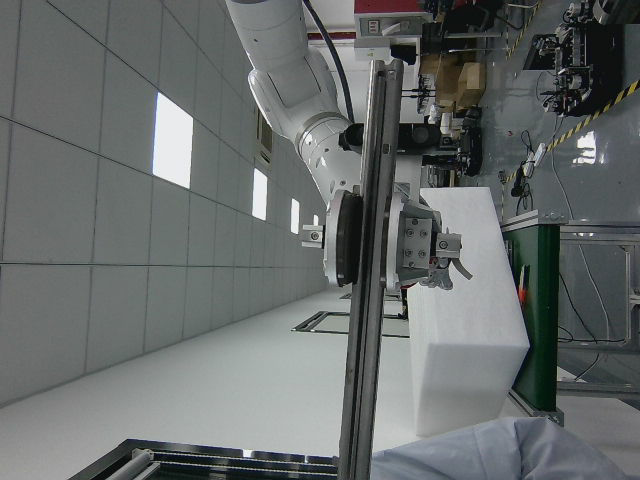up: (337, 56, 403, 478)
